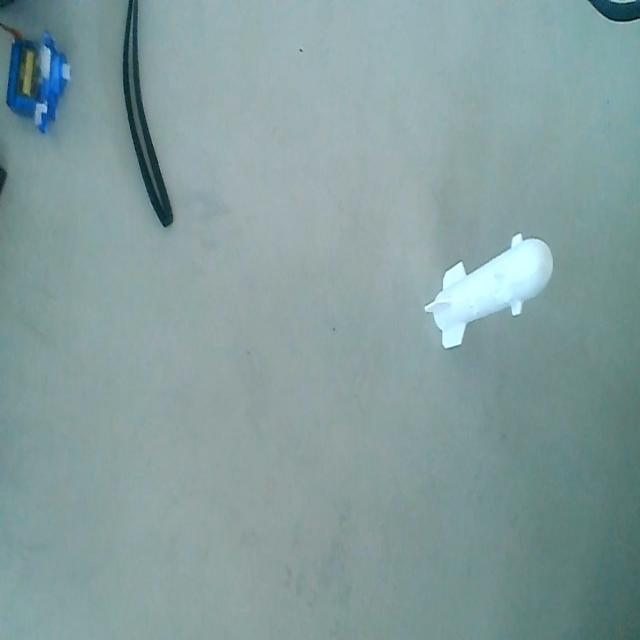Rocket: (424, 230, 558, 360)
